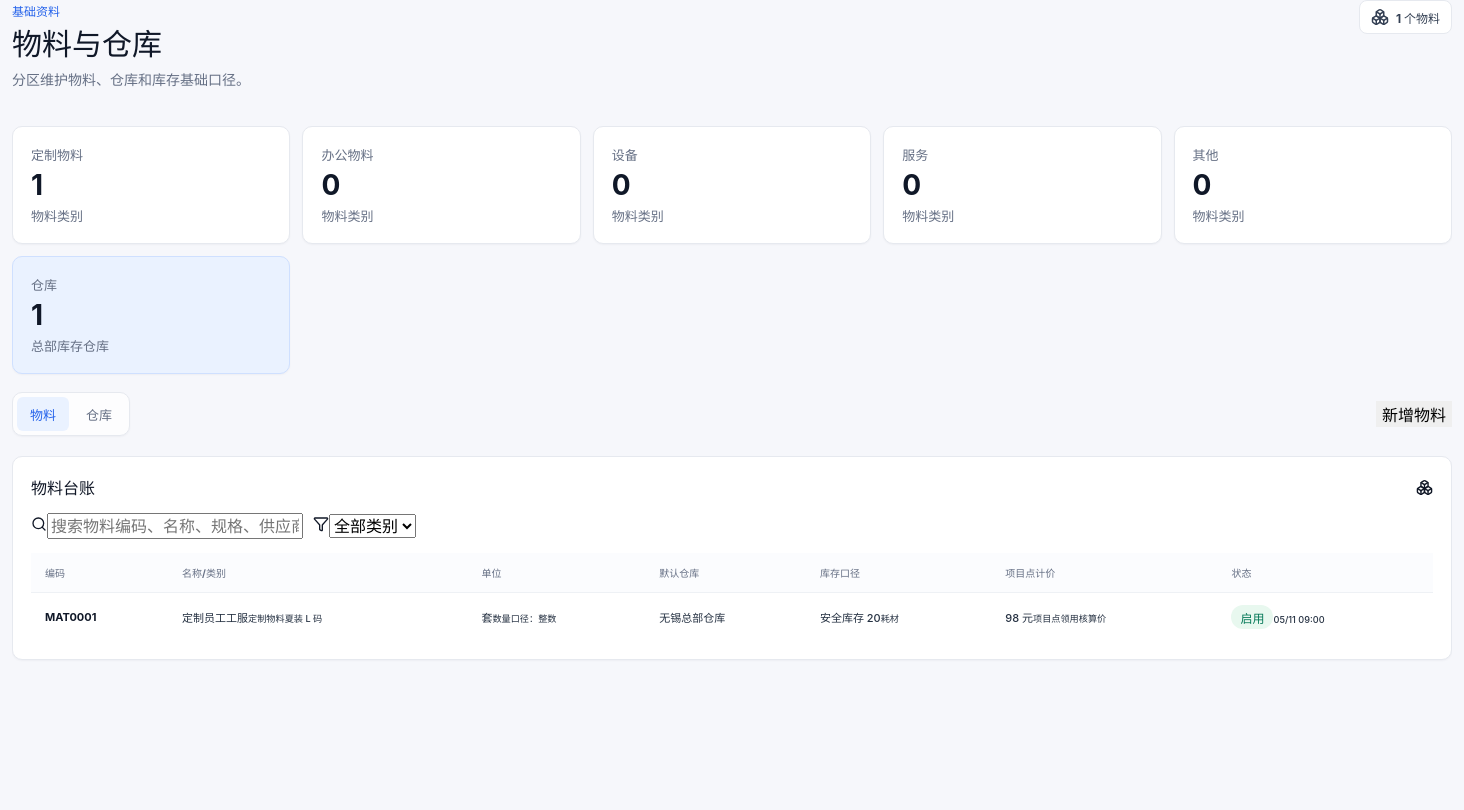
it: Company ERP workspace components › renders material and warehouse master data
Expected: the heading "物料与仓库" is shown, top-left (12, 26), bottom-right (162, 62)
Expected: the button "新增物料" is shown, top-left (1376, 402), bottom-right (1452, 428)
Click the tab "仓库" at (99, 414), box top-left (73, 398), bottom-right (125, 432)
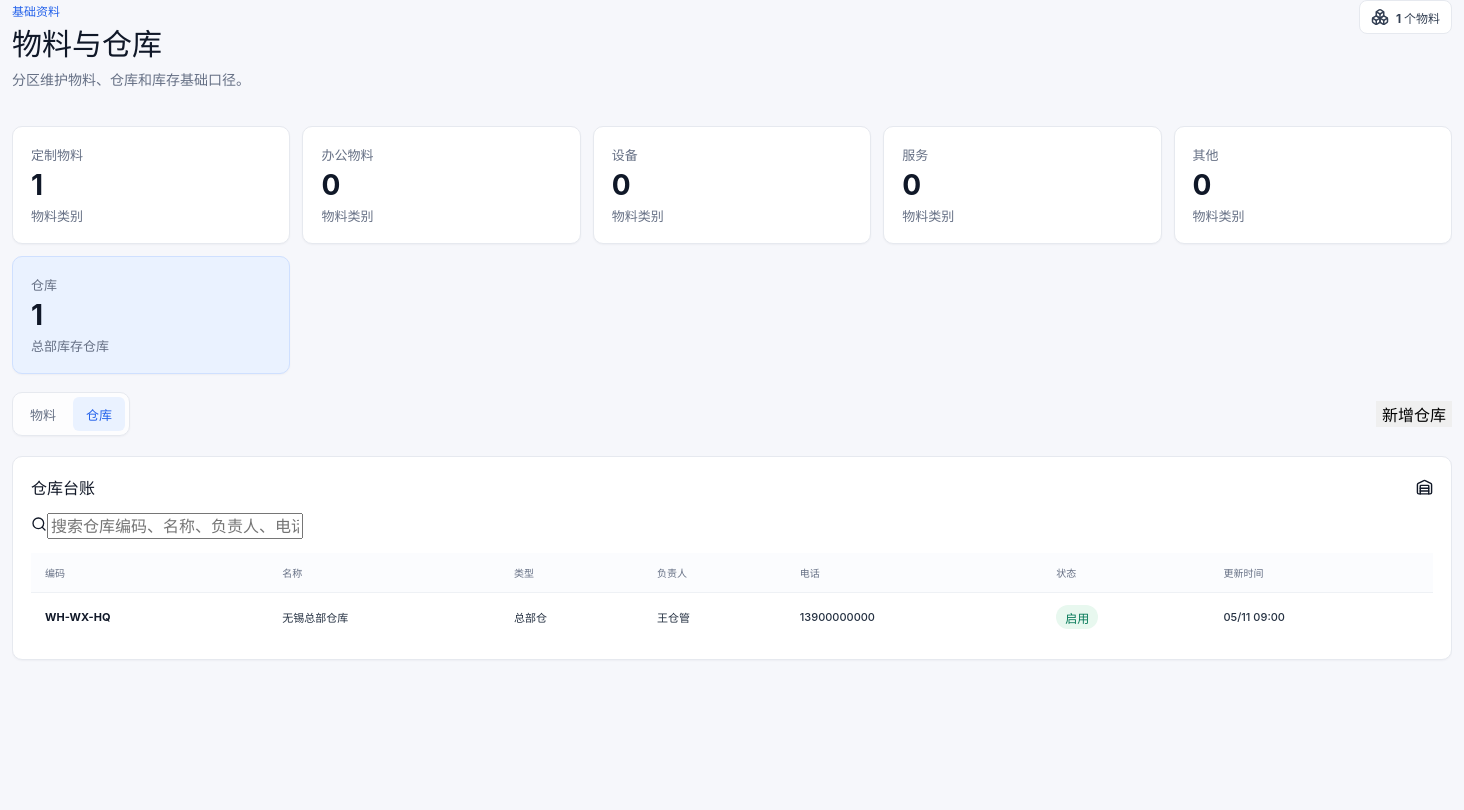
Expected: the text "WH-WX-HQ" is shown, top-left (31, 593), bottom-right (272, 642)
Expected: the text "无锡总部仓库" is shown, top-left (272, 593), bottom-right (504, 642)
Expected: the heading "物料台账" is gone
